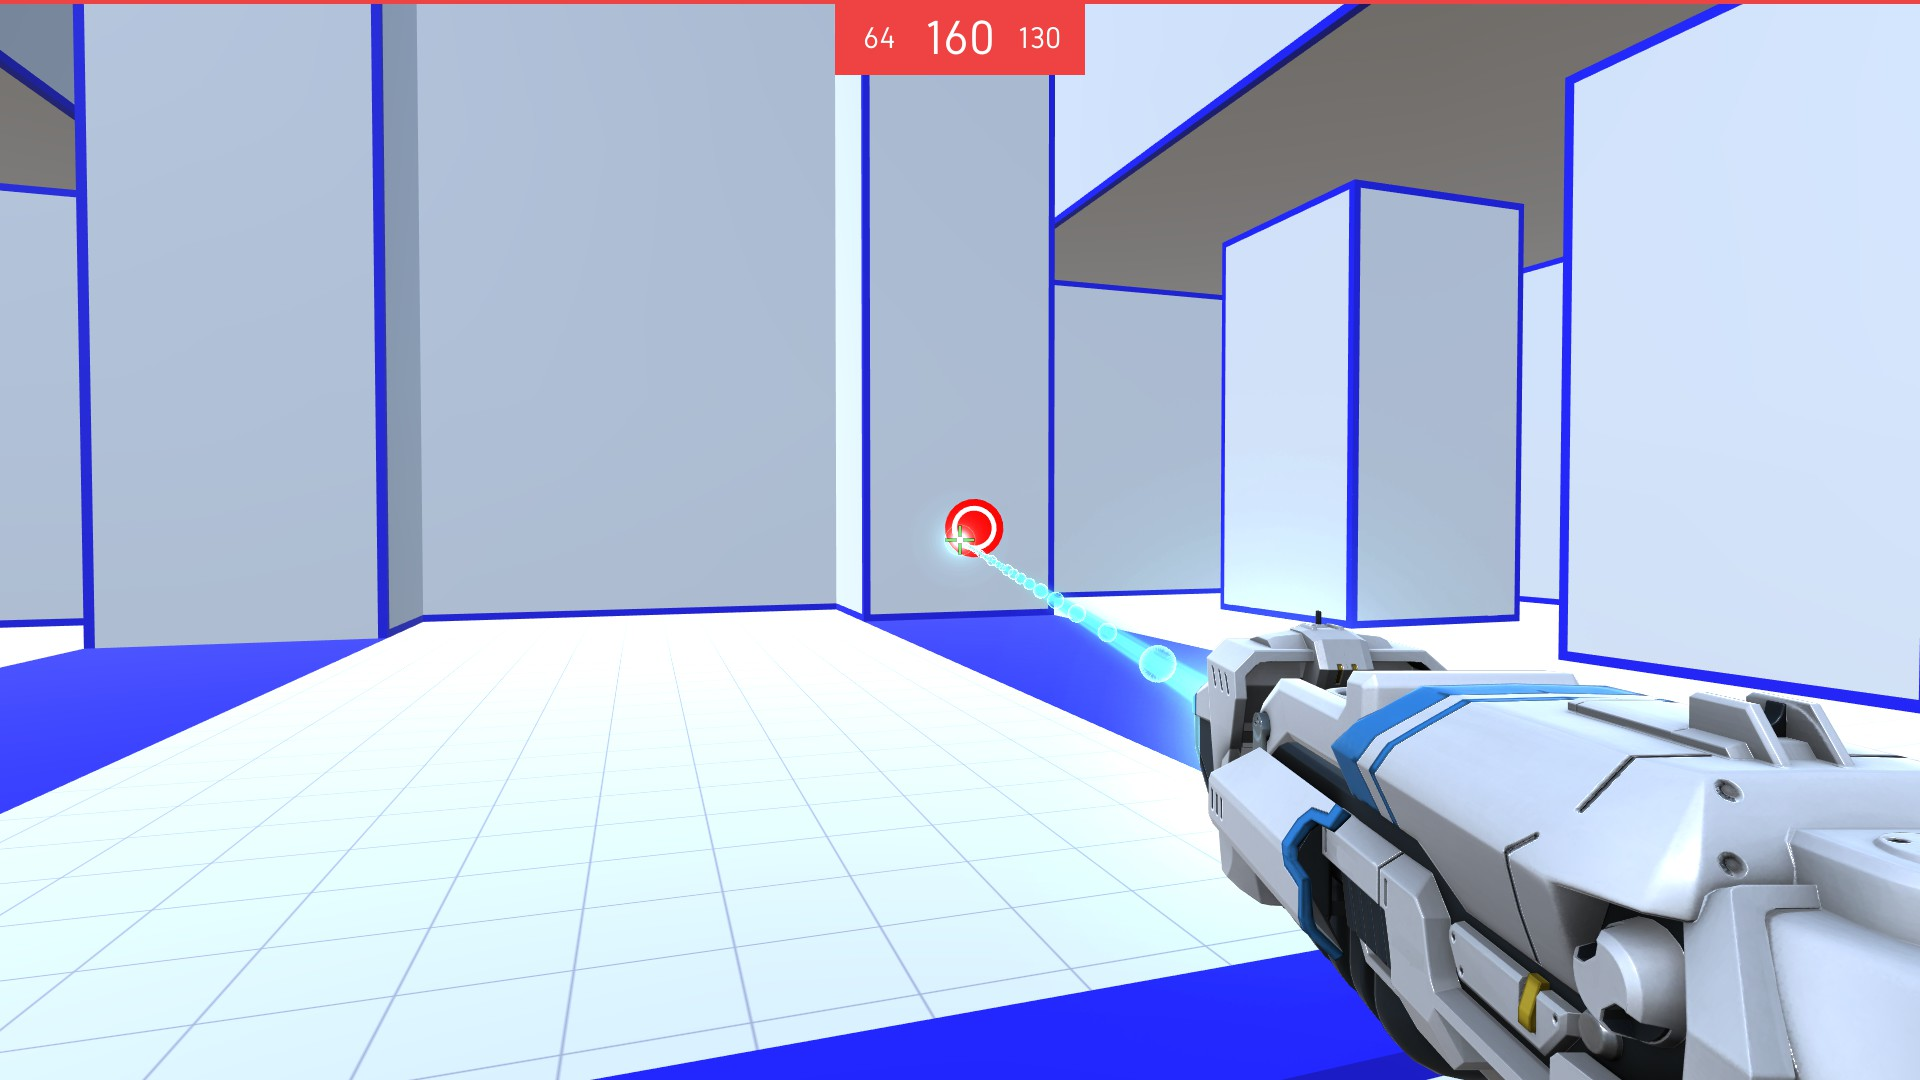target: (943, 498, 1010, 560)
